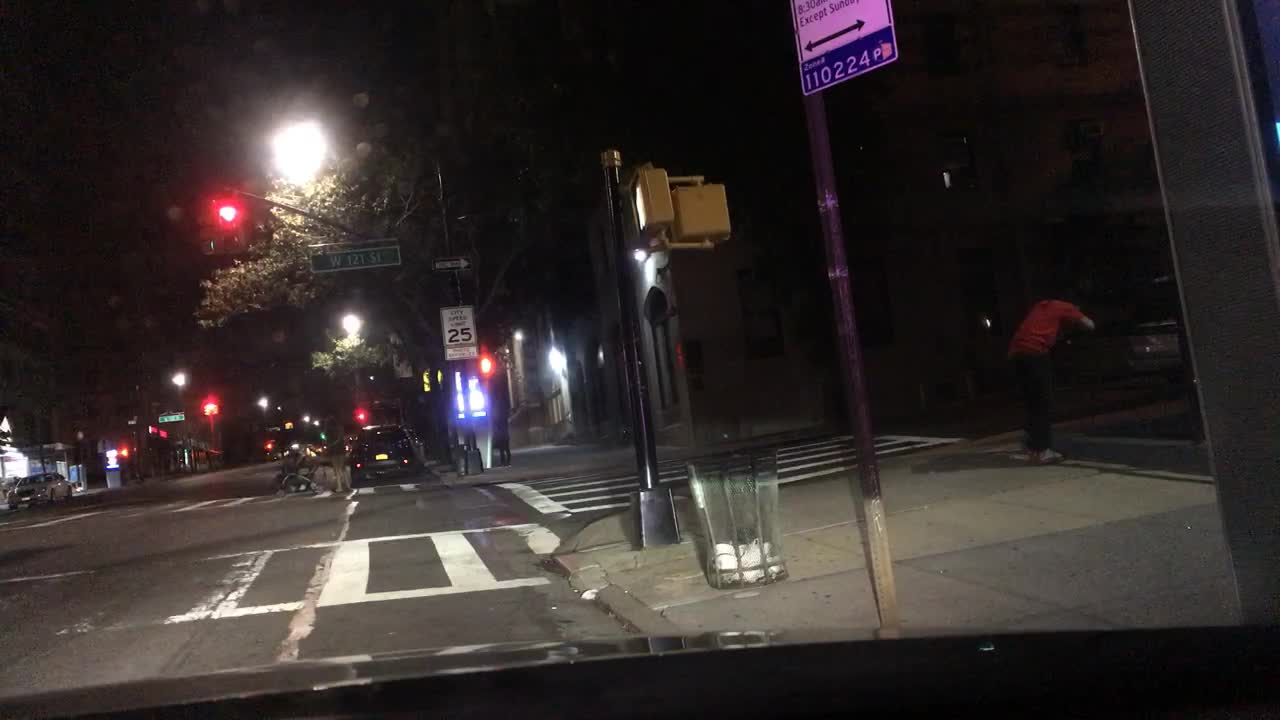car: (347, 425, 419, 484), (5, 468, 74, 510)
person: (995, 274, 1094, 467), (490, 393, 516, 468)
traffic light: (672, 182, 736, 245), (625, 163, 673, 238), (192, 199, 216, 260), (218, 197, 237, 251), (480, 354, 493, 382), (206, 401, 215, 419), (354, 409, 365, 423), (118, 447, 129, 458)
traffic sign: (792, 2, 899, 98), (306, 246, 401, 274), (439, 309, 477, 365), (430, 251, 475, 274), (158, 413, 187, 425)
